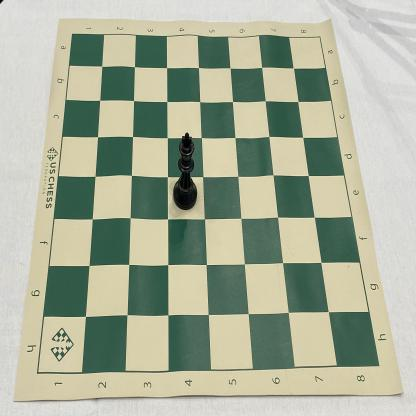black-king: (173, 132, 198, 211)
